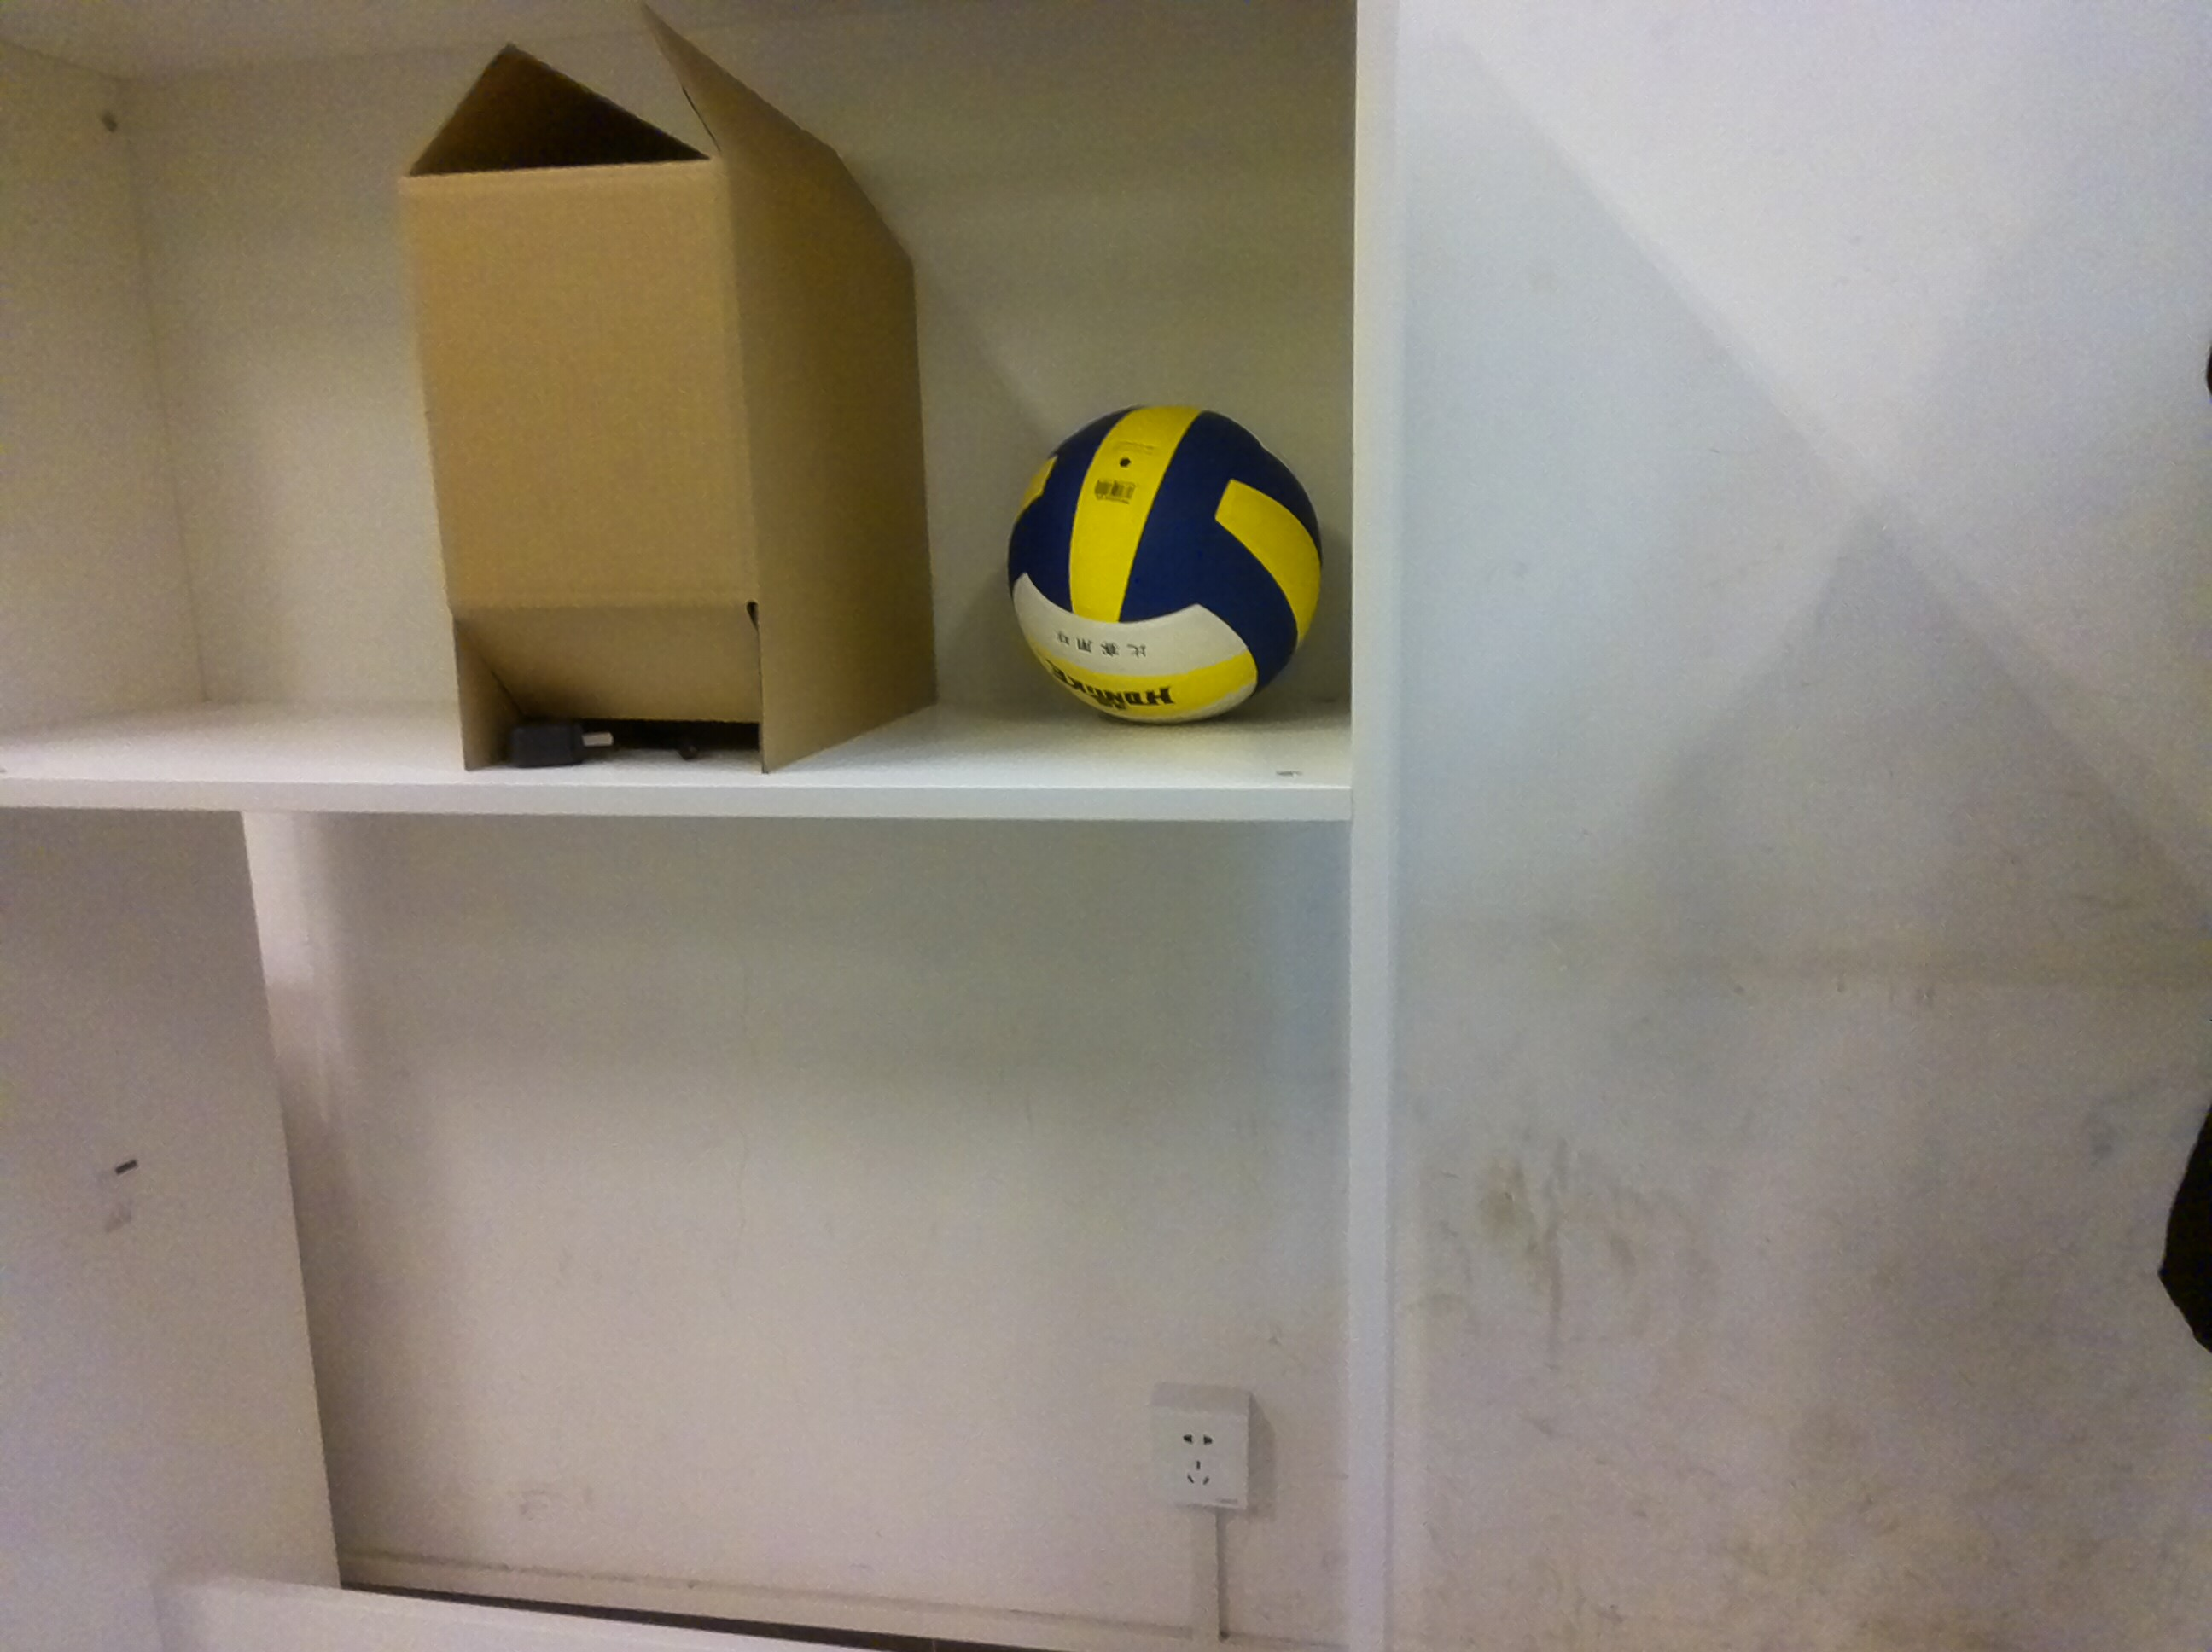volleyball: (992, 387, 1329, 722)
